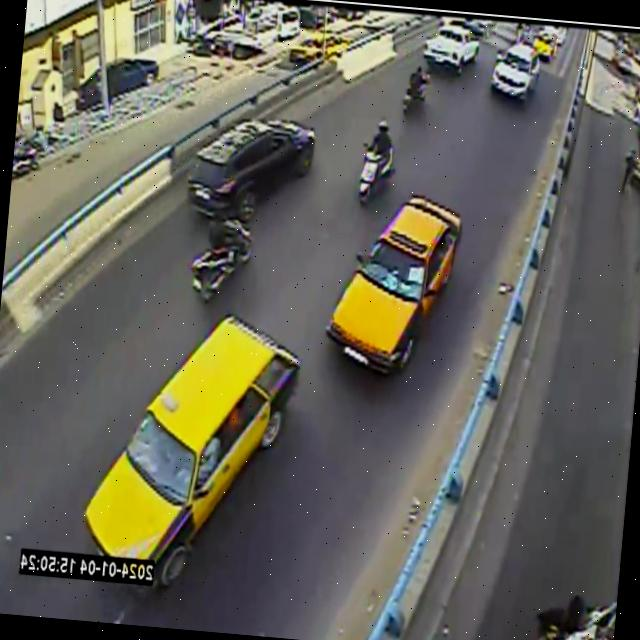car: (85, 315, 300, 587), (326, 195, 462, 371), (188, 118, 315, 221), (423, 24, 480, 75), (491, 43, 539, 100), (534, 31, 556, 61)
